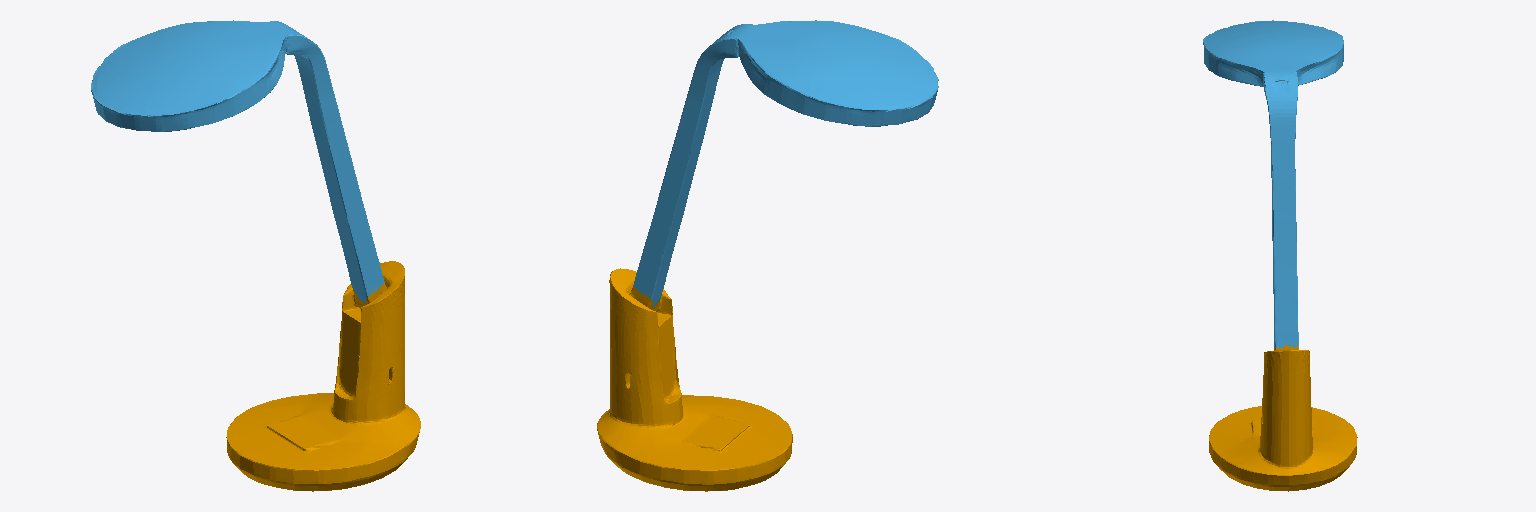
robot.urdf — object:
<robot name="object"><link name="part_0"><inertial><mass value="10" /><inertia ixx="1" ixy="0" ixz="0" iyy="1" iyz="0" izz="1" /></inertial><visual><geometry><mesh filename="visual/part_0/mesh.obj" /></geometry></visual><collision><geometry><mesh filename="collision/part_0_0.obj" /></geometry></collision><visual><geometry><mesh filename="visual/part_0/mesh.obj" /></geometry></visual><collision><geometry><mesh filename="collision/part_0_1.obj" /></geometry></collision><visual><geometry><mesh filename="visual/part_0/mesh.obj" /></geometry></visual><collision><geometry><mesh filename="collision/part_0_2.obj" /></geometry></collision><visual><geometry><mesh filename="visual/part_0/mesh.obj" /></geometry></visual><collision><geometry><mesh filename="collision/part_0_3.obj" /></geometry></collision><visual><geometry><mesh filename="visual/part_0/mesh.obj" /></geometry></visual><collision><geometry><mesh filename="collision/part_0_4.obj" /></geometry></collision><visual><geometry><mesh filename="visual/part_0/mesh.obj" /></geometry></visual><collision><geometry><mesh filename="collision/part_0_5.obj" /></geometry></collision><visual><geometry><mesh filename="visual/part_0/mesh.obj" /></geometry></visual><collision><geometry><mesh filename="collision/part_0_6.obj" /></geometry></collision><visual><geometry><mesh filename="visual/part_0/mesh.obj" /></geometry></visual><collision><geometry><mesh filename="collision/part_0_7.obj" /></geometry></collision><visual><geometry><mesh filename="visual/part_0/mesh.obj" /></geometry></visual><collision><geometry><mesh filename="collision/part_0_8.obj" /></geometry></collision><visual><geometry><mesh filename="visual/part_0/mesh.obj" /></geometry></visual><collision><geometry><mesh filename="collision/part_0_9.obj" /></geometry></collision><visual><geometry><mesh filename="visual/part_0/mesh.obj" /></geometry></visual><collision><geometry><mesh filename="collision/part_0_10.obj" /></geometry></collision><visual><geometry><mesh filename="visual/part_0/mesh.obj" /></geometry></visual><collision><geometry><mesh filename="collision/part_0_11.obj" /></geometry></collision><visual><geometry><mesh filename="visual/part_0/mesh.obj" /></geometry></visual><collision><geometry><mesh filename="collision/part_0_12.obj" /></geometry></collision><visual><geometry><mesh filename="visual/part_0/mesh.obj" /></geometry></visual><collision><geometry><mesh filename="collision/part_0_13.obj" /></geometry></collision><visual><geometry><mesh filename="visual/part_0/mesh.obj" /></geometry></visual><collision><geometry><mesh filename="collision/part_0_14.obj" /></geometry></collision><visual><geometry><mesh filename="visual/part_0/mesh.obj" /></geometry></visual><collision><geometry><mesh filename="collision/part_0_15.obj" /></geometry></collision><visual><geometry><mesh filename="visual/part_0/mesh.obj" /></geometry></visual><collision><geometry><mesh filename="collision/part_0_16.obj" /></geometry></collision><visual><geometry><mesh filename="visual/part_0/mesh.obj" /></geometry></visual><collision><geometry><mesh filename="collision/part_0_17.obj" /></geometry></collision><visual><geometry><mesh filename="visual/part_0/mesh.obj" /></geometry></visual><collision><geometry><mesh filename="collision/part_0_18.obj" /></geometry></collision><visual><geometry><mesh filename="visual/part_0/mesh.obj" /></geometry></visual><collision><geometry><mesh filename="collision/part_0_19.obj" /></geometry></collision></link><link name="part_1"><inertial><mass value="10" /><inertia ixx="1" ixy="0" ixz="0" iyy="1" iyz="0" izz="1" /></inertial><visual><geometry><mesh filename="visual/part_1/mesh.obj" /></geometry><origin xyz="-0.887647 -0.111402 -0.079838" /></visual><collision><geometry><mesh filename="collision/part_1_0.obj" /></geometry><origin xyz="-0.887647 -0.111402 -0.079838" /></collision><visual><geometry><mesh filename="visual/part_1/mesh.obj" /></geometry><origin xyz="-0.887647 -0.111402 -0.079838" /></visual><collision><geometry><mesh filename="collision/part_1_1.obj" /></geometry><origin xyz="-0.887647 -0.111402 -0.079838" /></collision><visual><geometry><mesh filename="visual/part_1/mesh.obj" /></geometry><origin xyz="-0.887647 -0.111402 -0.079838" /></visual><collision><geometry><mesh filename="collision/part_1_2.obj" /></geometry><origin xyz="-0.887647 -0.111402 -0.079838" /></collision><visual><geometry><mesh filename="visual/part_1/mesh.obj" /></geometry><origin xyz="-0.887647 -0.111402 -0.079838" /></visual><collision><geometry><mesh filename="collision/part_1_3.obj" /></geometry><origin xyz="-0.887647 -0.111402 -0.079838" /></collision><visual><geometry><mesh filename="visual/part_1/mesh.obj" /></geometry><origin xyz="-0.887647 -0.111402 -0.079838" /></visual><collision><geometry><mesh filename="collision/part_1_4.obj" /></geometry><origin xyz="-0.887647 -0.111402 -0.079838" /></collision><visual><geometry><mesh filename="visual/part_1/mesh.obj" /></geometry><origin xyz="-0.887647 -0.111402 -0.079838" /></visual><collision><geometry><mesh filename="collision/part_1_5.obj" /></geometry><origin xyz="-0.887647 -0.111402 -0.079838" /></collision><visual><geometry><mesh filename="visual/part_1/mesh.obj" /></geometry><origin xyz="-0.887647 -0.111402 -0.079838" /></visual><collision><geometry><mesh filename="collision/part_1_6.obj" /></geometry><origin xyz="-0.887647 -0.111402 -0.079838" /></collision><visual><geometry><mesh filename="visual/part_1/mesh.obj" /></geometry><origin xyz="-0.887647 -0.111402 -0.079838" /></visual><collision><geometry><mesh filename="collision/part_1_7.obj" /></geometry><origin xyz="-0.887647 -0.111402 -0.079838" /></collision><visual><geometry><mesh filename="visual/part_1/mesh.obj" /></geometry><origin xyz="-0.887647 -0.111402 -0.079838" /></visual><collision><geometry><mesh filename="collision/part_1_8.obj" /></geometry><origin xyz="-0.887647 -0.111402 -0.079838" /></collision><visual><geometry><mesh filename="visual/part_1/mesh.obj" /></geometry><origin xyz="-0.887647 -0.111402 -0.079838" /></visual><collision><geometry><mesh filename="collision/part_1_9.obj" /></geometry><origin xyz="-0.887647 -0.111402 -0.079838" /></collision><visual><geometry><mesh filename="visual/part_1/mesh.obj" /></geometry><origin xyz="-0.887647 -0.111402 -0.079838" /></visual><collision><geometry><mesh filename="collision/part_1_10.obj" /></geometry><origin xyz="-0.887647 -0.111402 -0.079838" /></collision><visual><geometry><mesh filename="visual/part_1/mesh.obj" /></geometry><origin xyz="-0.887647 -0.111402 -0.079838" /></visual><collision><geometry><mesh filename="collision/part_1_11.obj" /></geometry><origin xyz="-0.887647 -0.111402 -0.079838" /></collision><visual><geometry><mesh filename="visual/part_1/mesh.obj" /></geometry><origin xyz="-0.887647 -0.111402 -0.079838" /></visual><collision><geometry><mesh filename="collision/part_1_12.obj" /></geometry><origin xyz="-0.887647 -0.111402 -0.079838" /></collision><visual><geometry><mesh filename="visual/part_1/mesh.obj" /></geometry><origin xyz="-0.887647 -0.111402 -0.079838" /></visual><collision><geometry><mesh filename="collision/part_1_13.obj" /></geometry><origin xyz="-0.887647 -0.111402 -0.079838" /></collision><visual><geometry><mesh filename="visual/part_1/mesh.obj" /></geometry><origin xyz="-0.887647 -0.111402 -0.079838" /></visual><collision><geometry><mesh filename="collision/part_1_14.obj" /></geometry><origin xyz="-0.887647 -0.111402 -0.079838" /></collision><visual><geometry><mesh filename="visual/part_1/mesh.obj" /></geometry><origin xyz="-0.887647 -0.111402 -0.079838" /></visual><collision><geometry><mesh filename="collision/part_1_15.obj" /></geometry><origin xyz="-0.887647 -0.111402 -0.079838" /></collision><visual><geometry><mesh filename="visual/part_1/mesh.obj" /></geometry><origin xyz="-0.887647 -0.111402 -0.079838" /></visual><collision><geometry><mesh filename="collision/part_1_16.obj" /></geometry><origin xyz="-0.887647 -0.111402 -0.079838" /></collision><visual><geometry><mesh filename="visual/part_1/mesh.obj" /></geometry><origin xyz="-0.887647 -0.111402 -0.079838" /></visual><collision><geometry><mesh filename="collision/part_1_17.obj" /></geometry><origin xyz="-0.887647 -0.111402 -0.079838" /></collision><visual><geometry><mesh filename="visual/part_1/mesh.obj" /></geometry><origin xyz="-0.887647 -0.111402 -0.079838" /></visual><collision><geometry><mesh filename="collision/part_1_18.obj" /></geometry><origin xyz="-0.887647 -0.111402 -0.079838" /></collision><visual><geometry><mesh filename="visual/part_1/mesh.obj" /></geometry><origin xyz="-0.887647 -0.111402 -0.079838" /></visual><collision><geometry><mesh filename="collision/part_1_19.obj" /></geometry><origin xyz="-0.887647 -0.111402 -0.079838" /></collision></link><joint name="part_1_joint" type="revolute"><origin xyz="0.887647 0.111402 0.079838" /><axis xyz="-0.033897 0.999090 -0.025883" /><parent link="part_0" /><child link="part_1" /><limit effort="1000" lower="-3.14" upper="3.14" velocity="1000" /><dynamics damping="0.1" friction="0.1" /></joint></robot>

--- Render facts (derived) ---
3 views of the same robot in one strip: view 1: azimuth 30°, elevation 25°; view 2: azimuth 150°, elevation 25°; view 3: azimuth 270°, elevation 25° (orthographic).
Model object with 2 links and 1 joints (1 revolute), rooted at part_0, posed all joints at 0.
Links seen in each view (by area): view 1: part_1, part_0; view 2: part_1, part_0; view 3: part_1, part_0.
Boxes of the visible links, box(x1,y1,x2,y2) form: part_1: box(91, 20, 384, 302); part_0: box(226, 261, 420, 491); part_1: box(633, 20, 938, 307); part_0: box(597, 268, 792, 491); part_1: box(1203, 20, 1343, 347); part_0: box(1209, 345, 1357, 491).
Bounding box of the posed robot: 0.2716 × 0.1366 × 0.3589 m (x, y, z).
Meshes: 2 distinct files referenced, 40 mesh visuals loaded (2 OBJ).